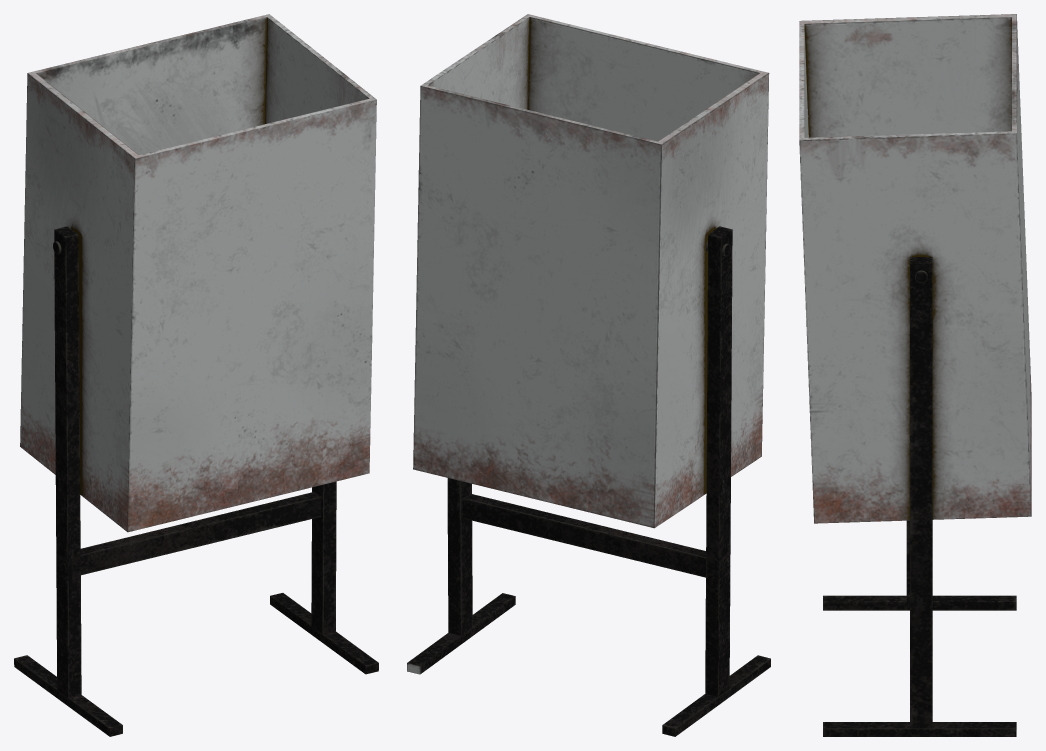
The model's file is trash_can.glb.
3 views of the same model, side by side, from view 1: azimuth 30°, elevation 25°; view 2: azimuth 150°, elevation 25°; view 3: azimuth 270°, elevation 25° (orthographic).
Visible parts, largest first — view 1: pCube9; view 2: pCube9; view 3: pCube9.
Part boxes in pixels (x1=…): pCube9: x1=14, y1=14, x2=378, y2=736; pCube9: x1=407, y1=14, x2=770, y2=736; pCube9: x1=799, y1=14, x2=1031, y2=736.
Bounding box in the file's own units: 0.3001 × 0.6069 × 0.2141.
Materials: 1 (1 with a texture image).
